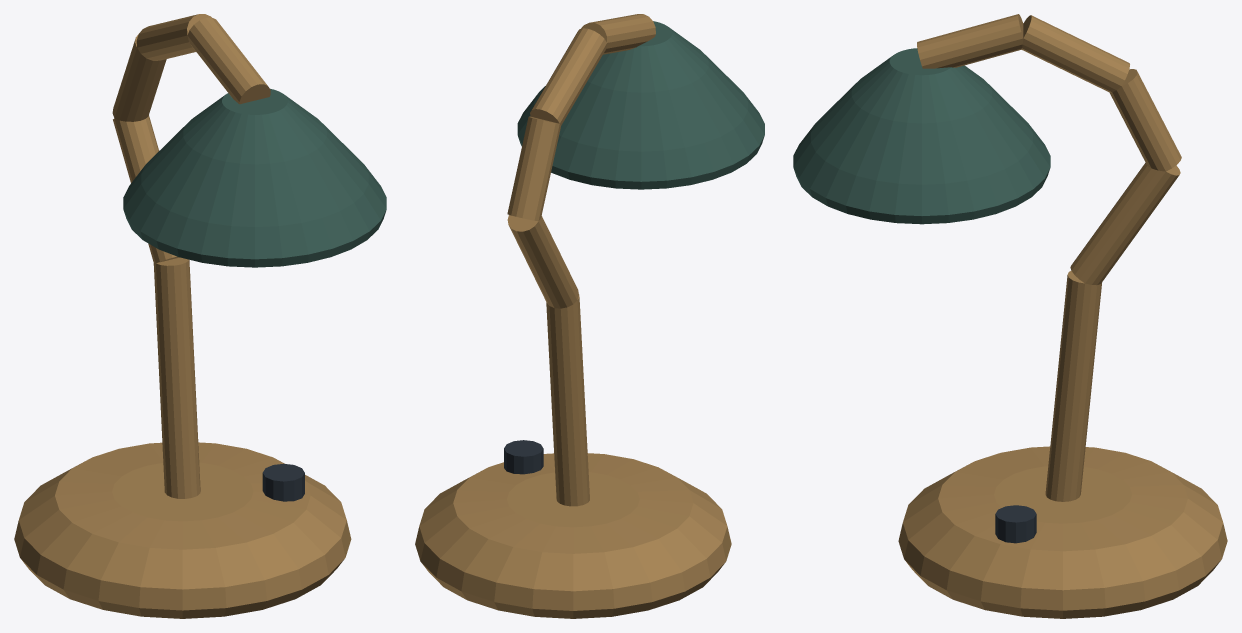
The model's file is S-02_brass_lamp.glb.
3 views of the same model, side by side, from view 1: azimuth 30°, elevation 25°; view 2: azimuth 150°, elevation 25°; view 3: azimuth 270°, elevation 25° (orthographic). The views are drawn at different scales.
Parts seen in each view (by area): view 1: S-02_brass_lamp; view 2: S-02_brass_lamp; view 3: S-02_brass_lamp.
Boxes of the visible parts, box(x1,y1,x2,y2) form: S-02_brass_lamp: box(14, 14, 386, 618); S-02_brass_lamp: box(415, 14, 764, 618); S-02_brass_lamp: box(793, 14, 1227, 618).
Bounding box in the file's own units: 0.224 × 0.4035 × 0.2955.
